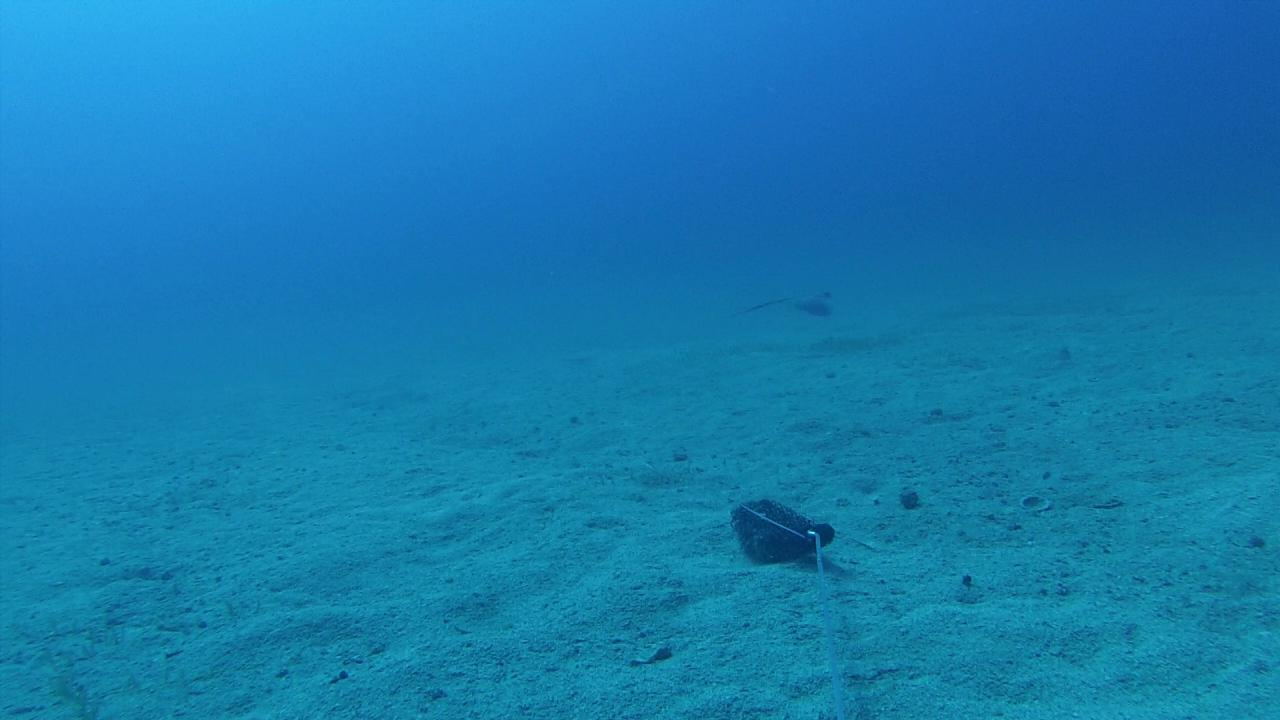dasyatis: (732, 289, 835, 318)
